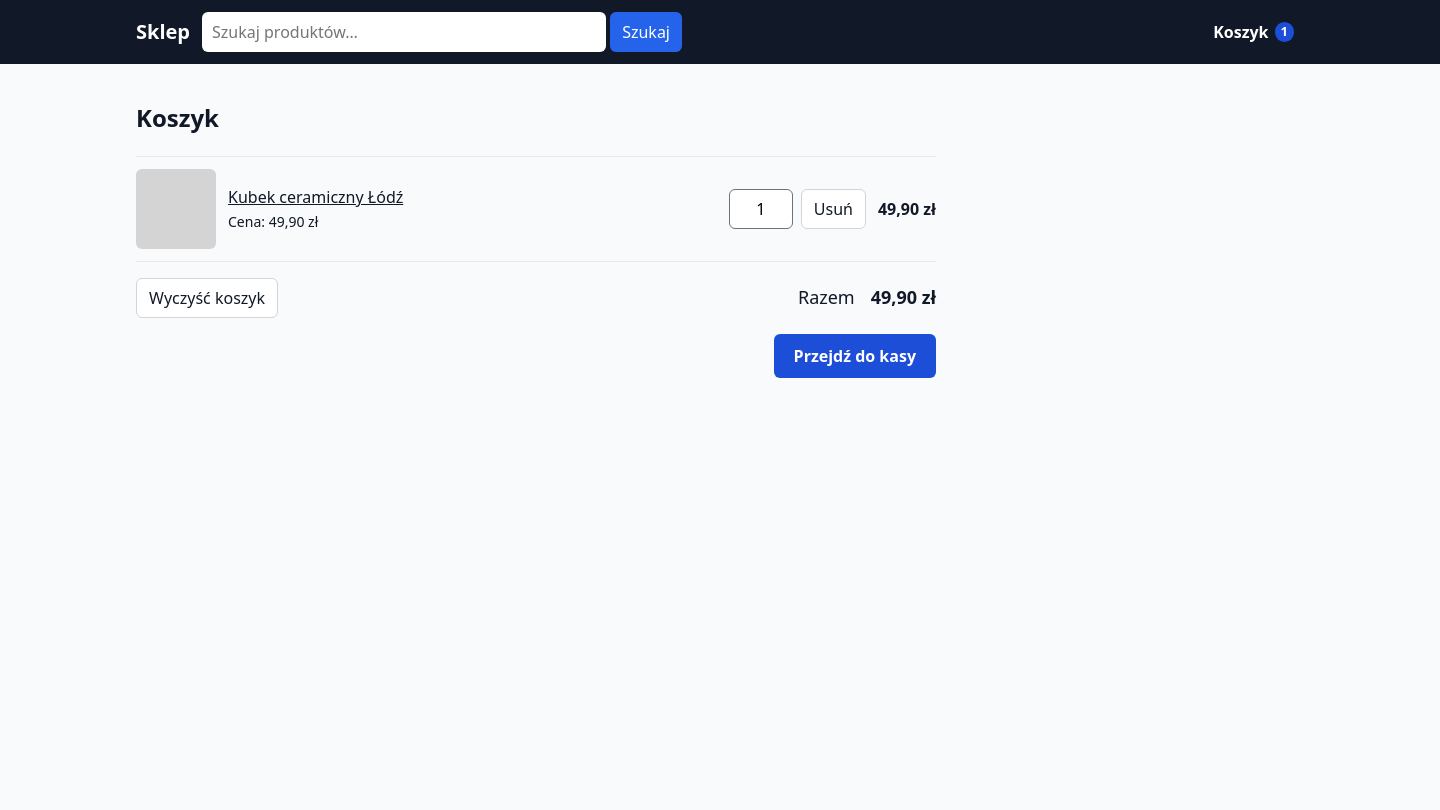
cart page › caps a quantity above the stock and tells the customer how many are available
Replace the text in the field named "Liczba sztuk: Kubek ceramiczny Łódź" with "50" at (761, 209), box 729,189 -> 793,229
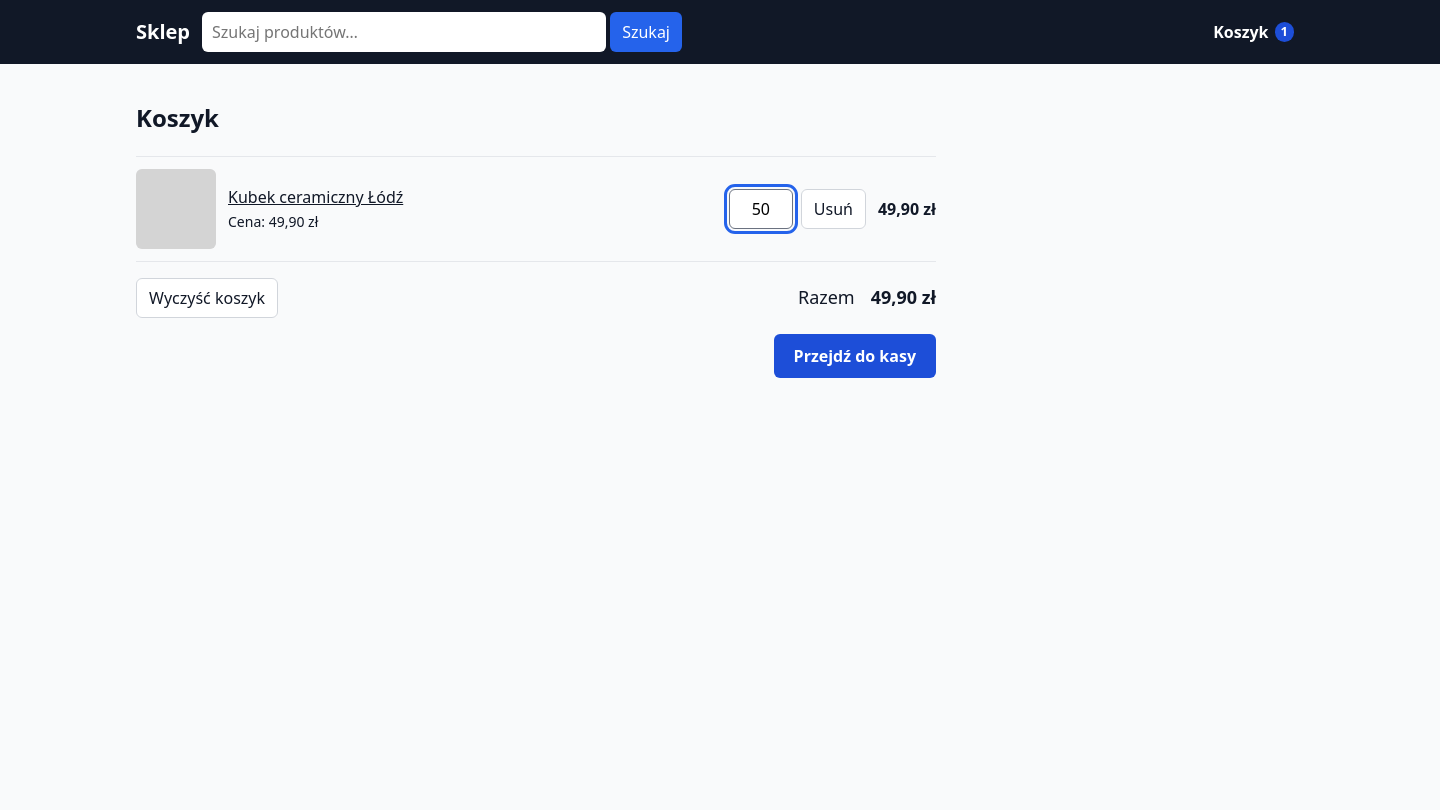
Press Tab
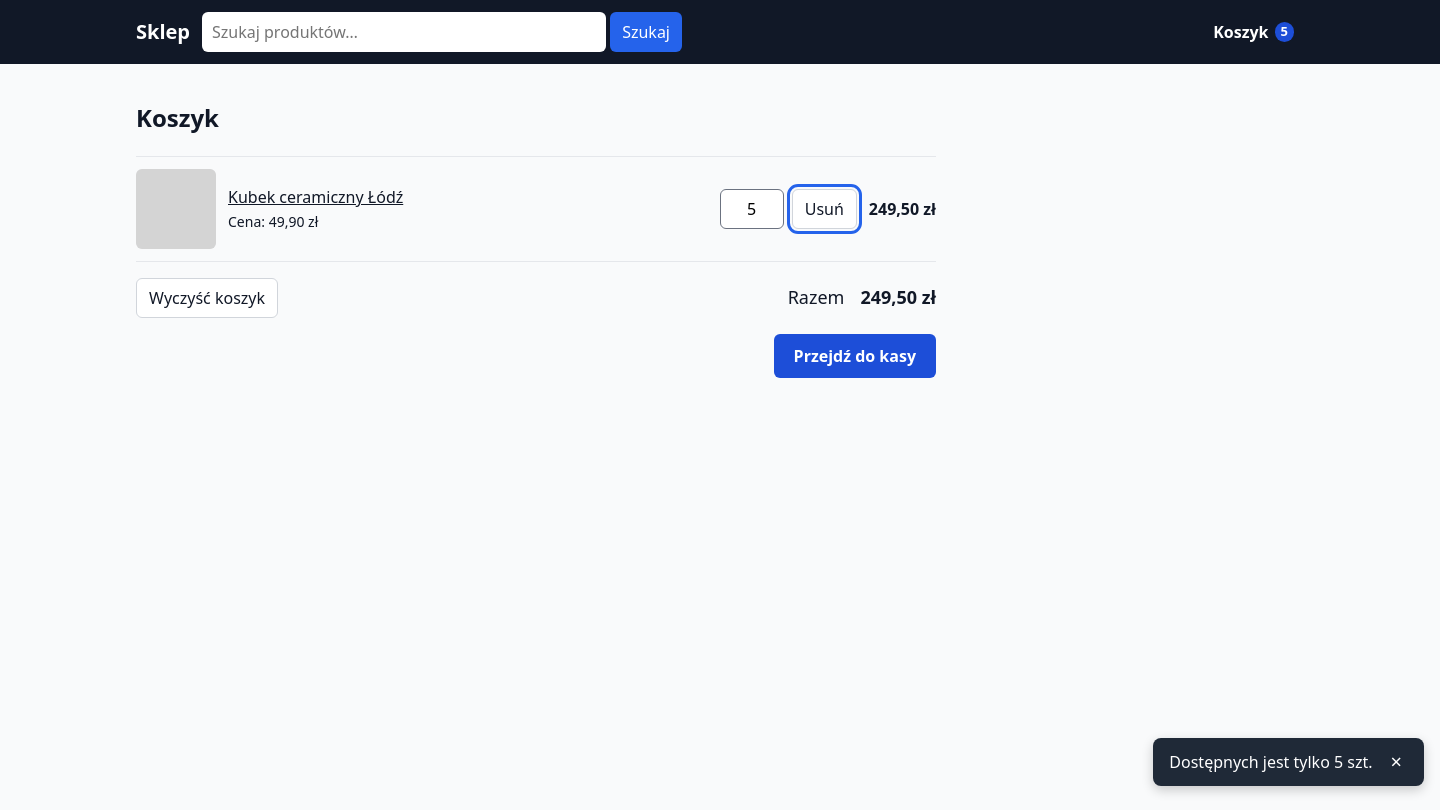
Result: the text "Dostępnych jest tylko 5 szt." is shown at 1169,750 -> 1372,774
Result: the field named "Liczba sztuk: Kubek ceramiczny Łódź" holds "5" at 720,189 -> 784,229
